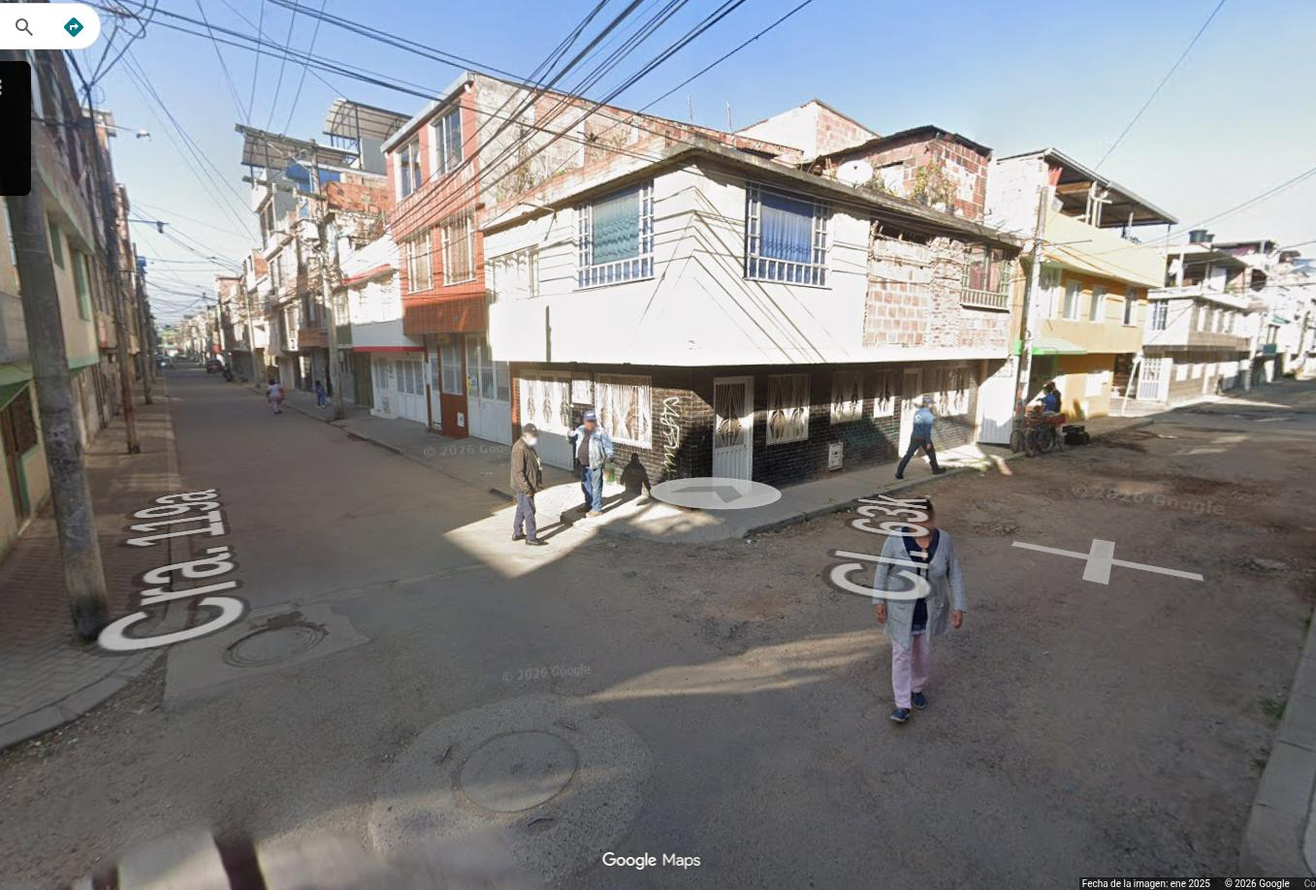casa: (484, 144, 1019, 487), (381, 71, 794, 435), (987, 148, 1176, 422), (335, 234, 427, 421)
poste: (9, 194, 90, 633), (82, 87, 140, 454), (129, 129, 150, 139)
